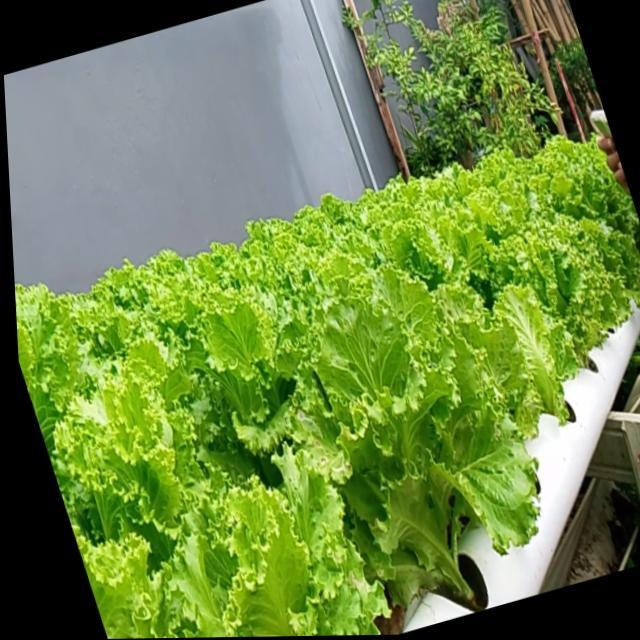Mature: (15, 125, 640, 639), (301, 275, 534, 615), (499, 215, 625, 386)
